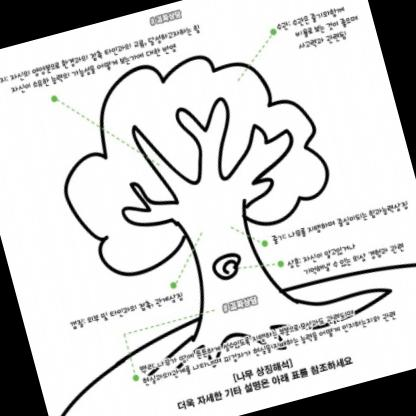branch_sharp: (97, 78, 310, 238)
crown_cloud: (31, 17, 343, 286)
knot: (206, 245, 248, 286)
root_upside: (123, 250, 403, 386)
trunk_straight: (183, 223, 279, 304)
